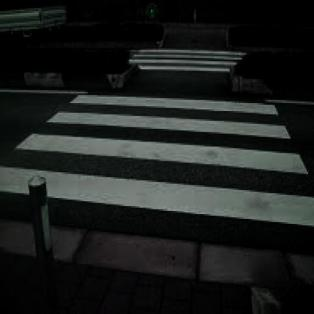Paso de Cebra: (6, 108, 313, 179)
